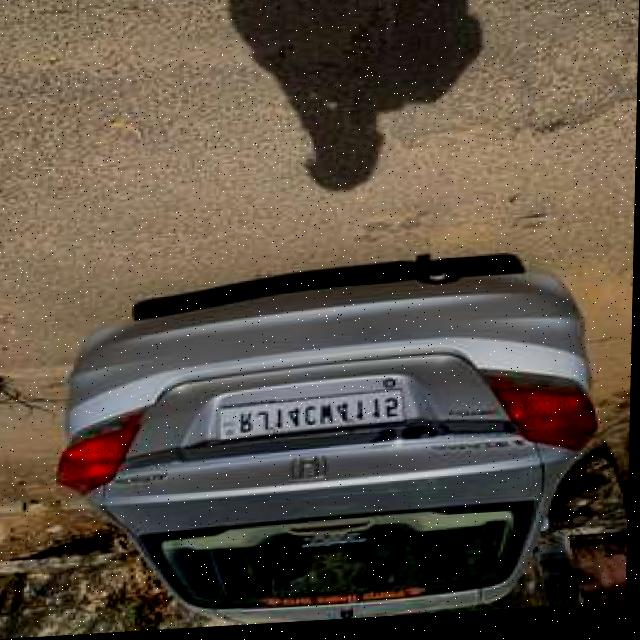plate: (220, 390, 407, 446)
